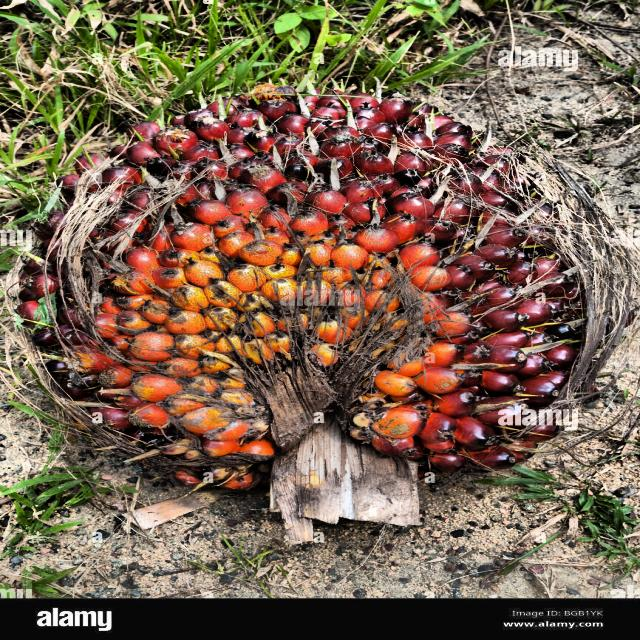FFB: (12, 87, 587, 538)
